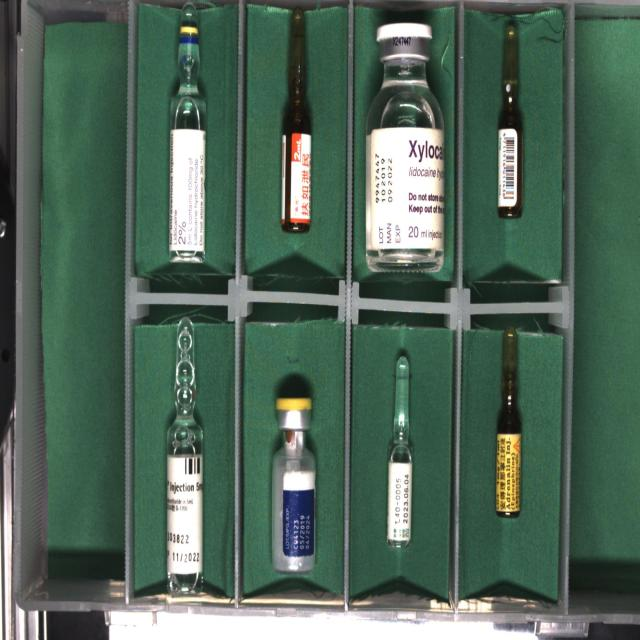Vials: (366, 22, 444, 271), (272, 397, 315, 573)
